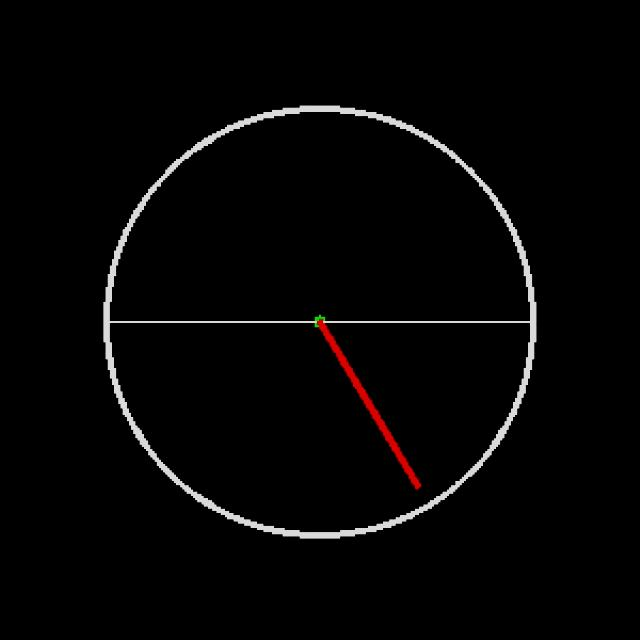Needle_Tip: (394, 453, 435, 499)
Needle_base: (284, 299, 357, 361)
